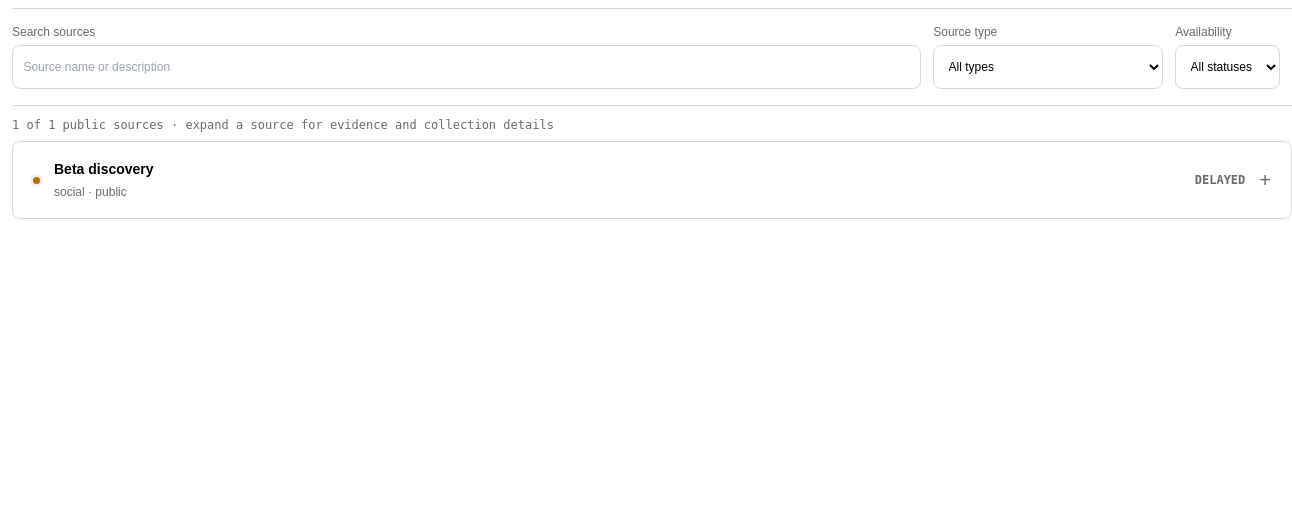
Scenario: SourceRegistry › does not promote discovery to opening evidence
Step 1. Click the text "Beta discovery" → (104, 169), box [54,160,154,199]
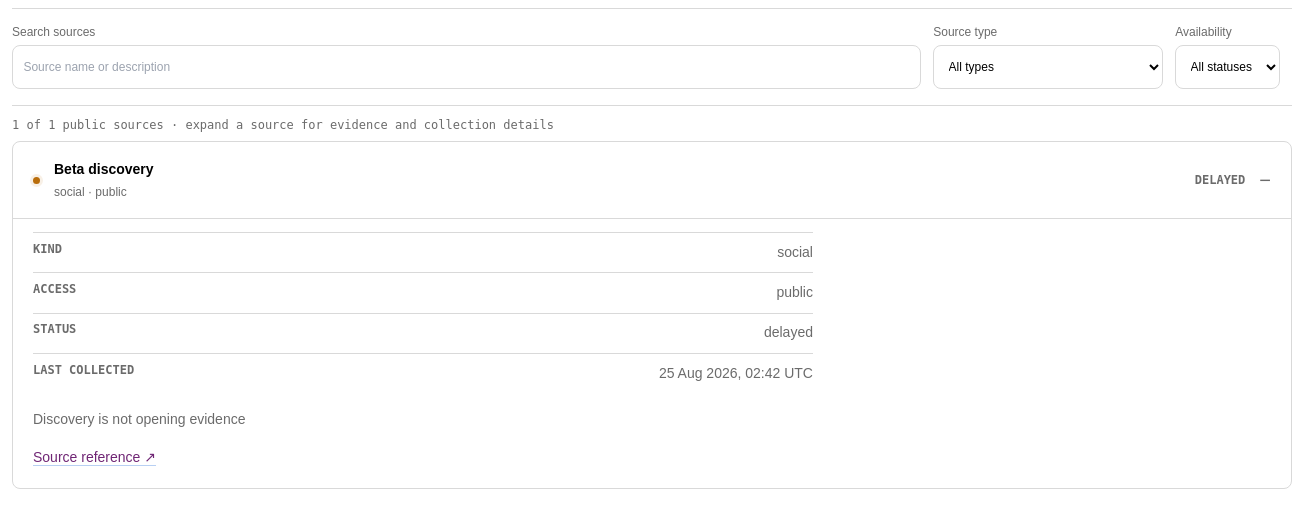
Now the text "Discovery is not opening evidence" is shown, box [33,411,246,427]
